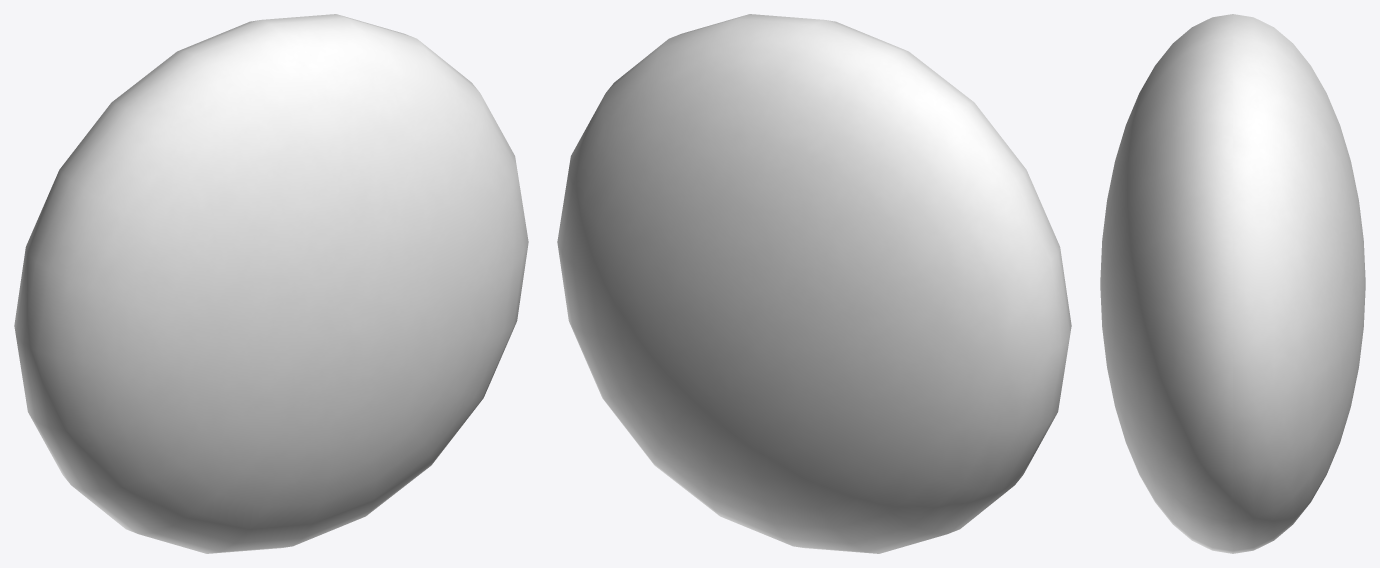
File: Mentosinka.fbx
The picture shows the model from 3 angles, left to right: view 1: azimuth 30°, elevation 25°; view 2: azimuth 150°, elevation 25°; view 3: azimuth 270°, elevation 25°; orthographic projection. The views are drawn at different scales.
Visible parts, largest first — view 1: polySurface4; view 2: polySurface4; view 3: polySurface4.
Boxes of the visible parts, left/top/right/bottom form: polySurface4: left=14, top=14, right=528, bottom=553; polySurface4: left=557, top=14, right=1071, bottom=553; polySurface4: left=1100, top=14, right=1365, bottom=553.
Bounding box in the file's own units: 1.94 × 1.94 × 0.946.
